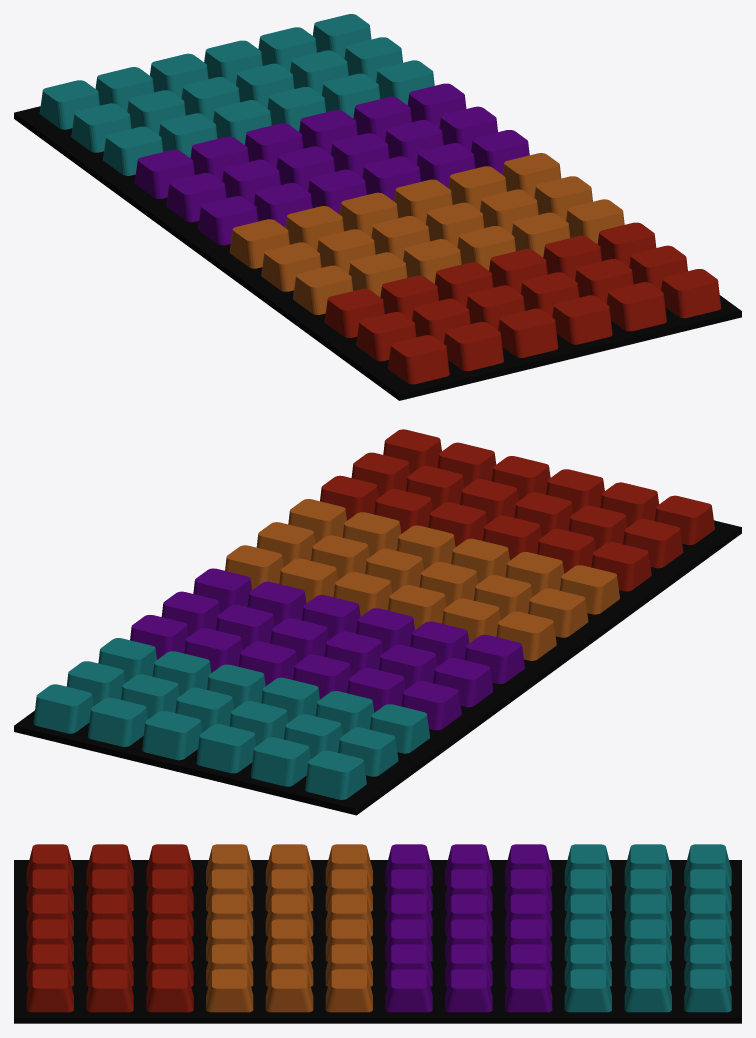
Rendered from Teclado.fbx.
3 renders of one model, top to bottom at view 1: azimuth 30°, elevation 25°; view 2: azimuth 150°, elevation 25°; view 3: azimuth 270°, elevation 25°, orthographic. The views are drawn at different scales.
Parts seen in each view (by area): view 1: Teclado; view 2: Teclado; view 3: Teclado.
Part boxes in pixels (x1,y1,x2,y2): Teclado: (14, 14, 741, 400); Teclado: (14, 429, 741, 815); Teclado: (14, 844, 741, 1023).
Size of the model in its own units: 425 by 37.23 by 827.
